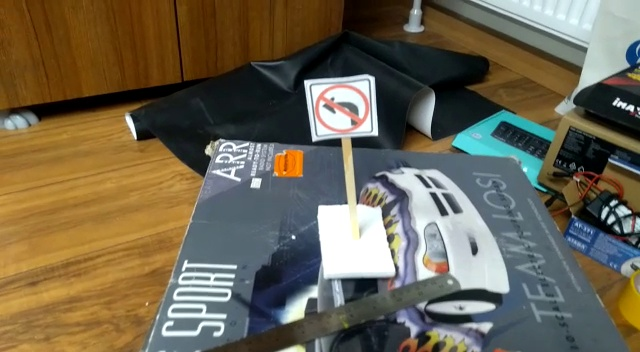sola_donulmez: (310, 80, 373, 135)
